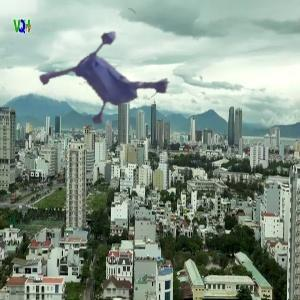drone: (54, 5, 195, 146)
